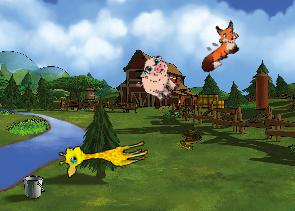fox: (187, 17, 249, 75)
giraffe: (56, 129, 150, 179)
pig: (130, 51, 186, 107)
